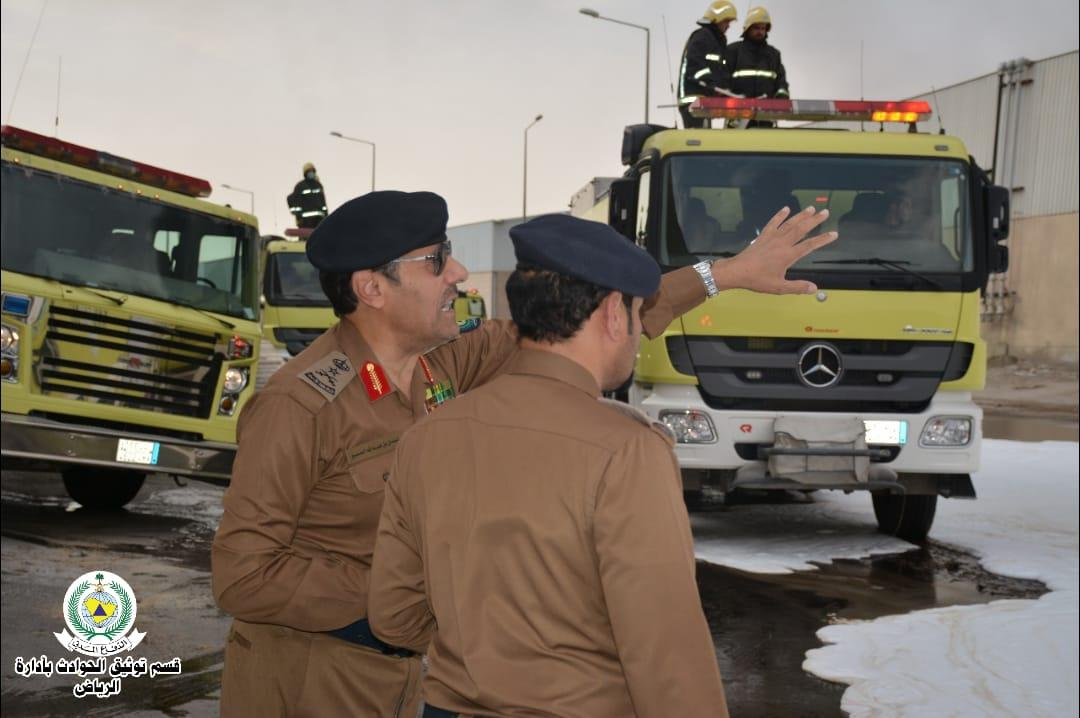firetruck_off: (3, 116, 262, 513)
firetruck_on: (595, 97, 1008, 528)
